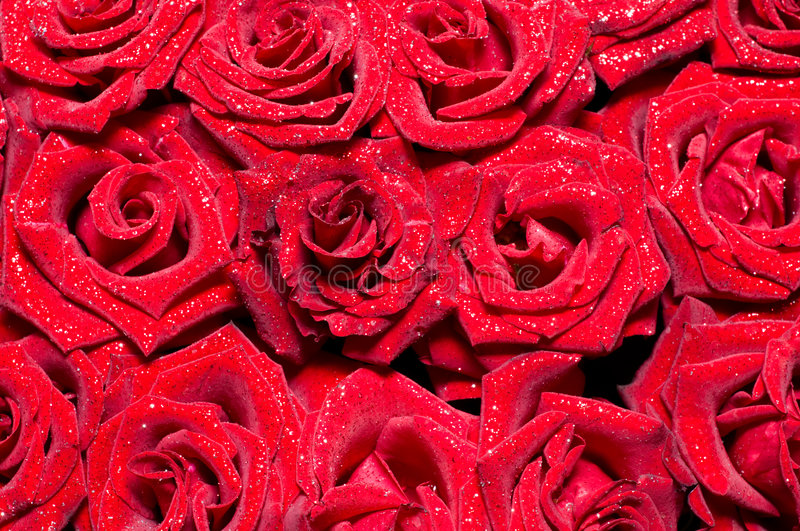RedRose: (9, 107, 254, 330), (466, 148, 660, 381), (96, 329, 307, 519), (632, 77, 794, 298), (292, 173, 450, 354), (388, 10, 593, 144), (492, 387, 675, 525), (327, 361, 479, 527), (39, 0, 205, 138), (218, 8, 370, 157), (687, 317, 792, 508), (8, 343, 100, 516)
